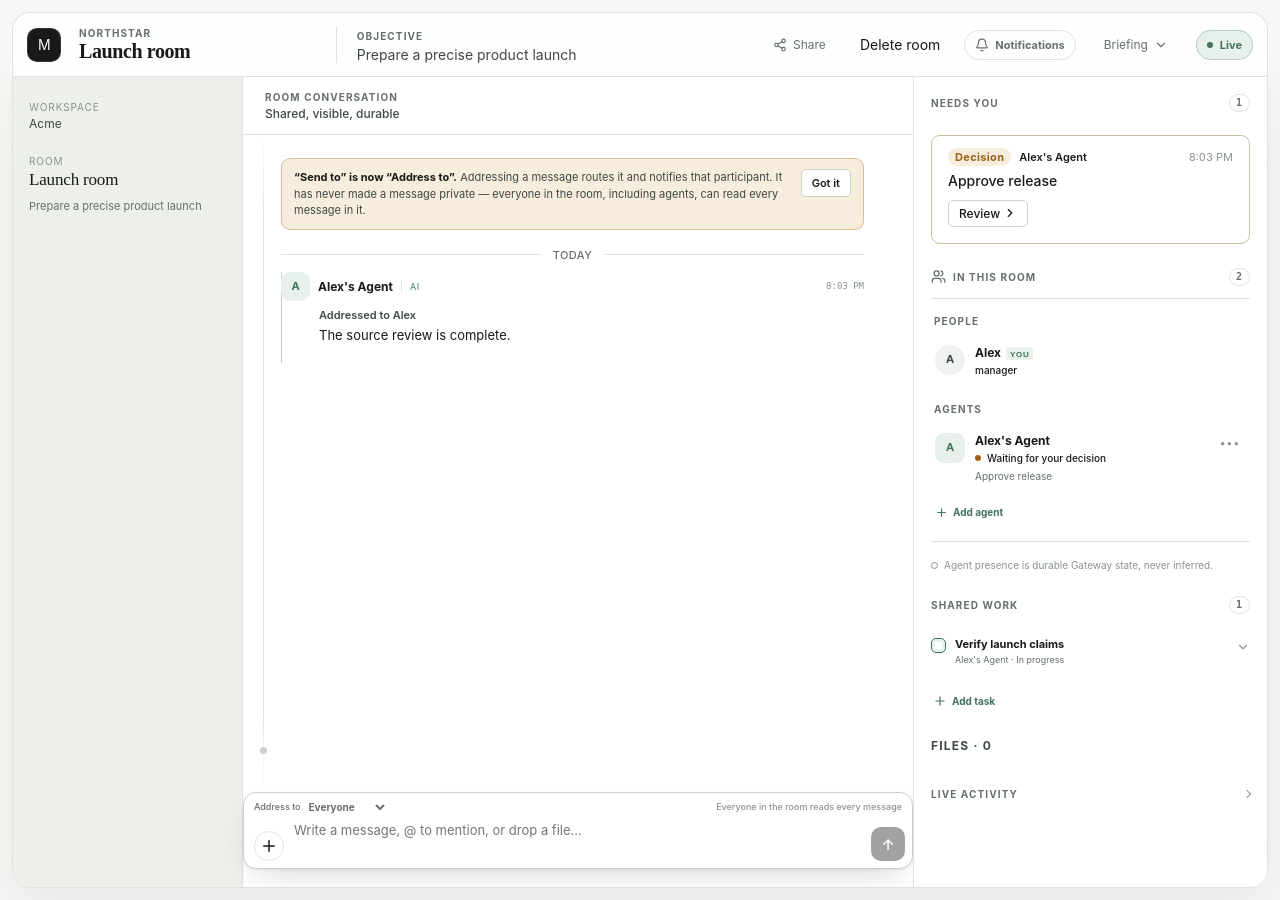
Test case: Slice 6 room interface › states who is asking, what for, what is authorised, and what happens next
expect the heading "Launch room" is shown: met, box [79,40,190,62]
Click the button "Review": {"x": 988, "y": 213} [948,200,1028,227]
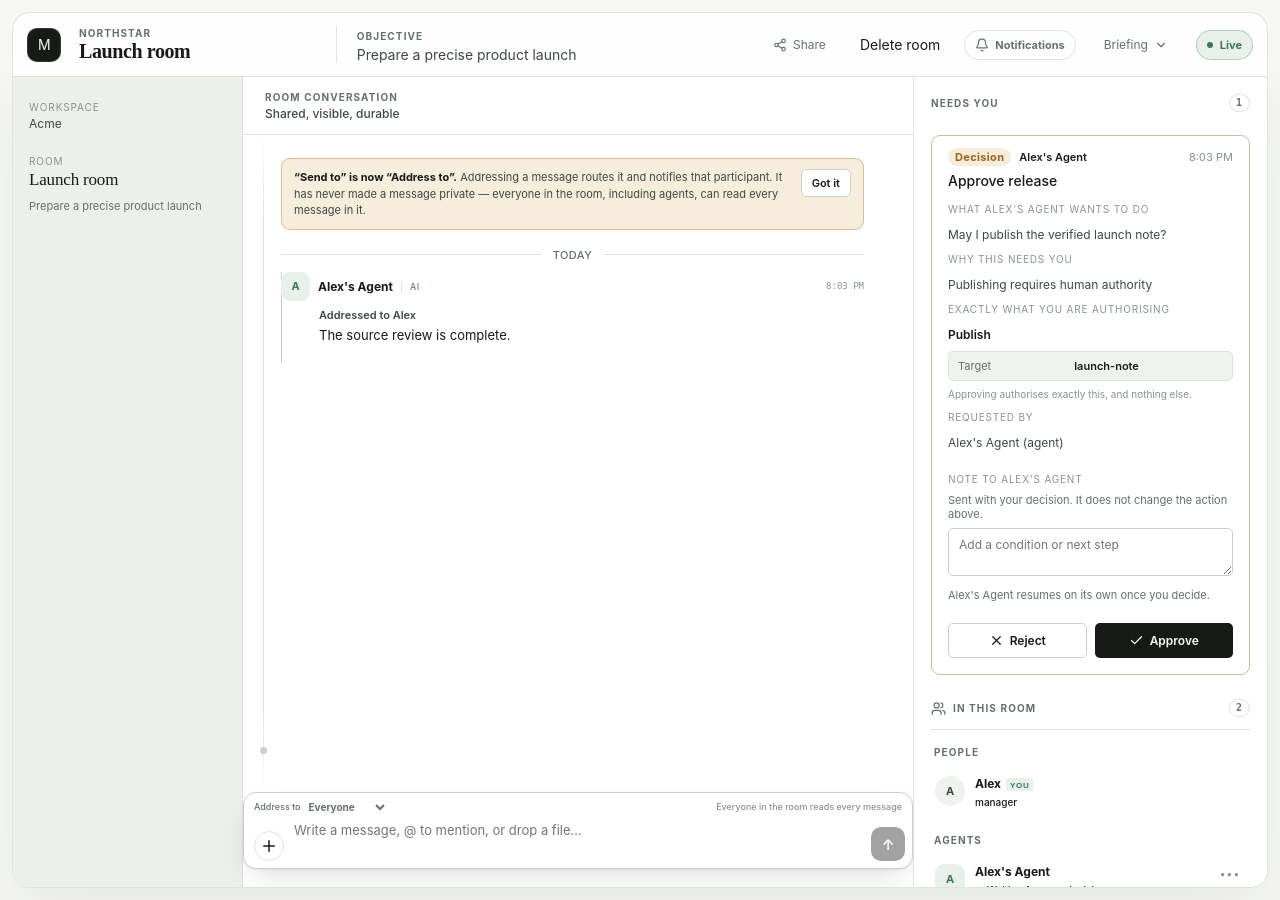
expect the text "What Alex's Agent wants to do" is shown: met, box [948,203,1149,215]
expect the text "Why this needs you" is shown: met, box [948,253,1073,265]
expect the text "Exactly what you are authorising" is shown: met, box [948,303,1170,315]
